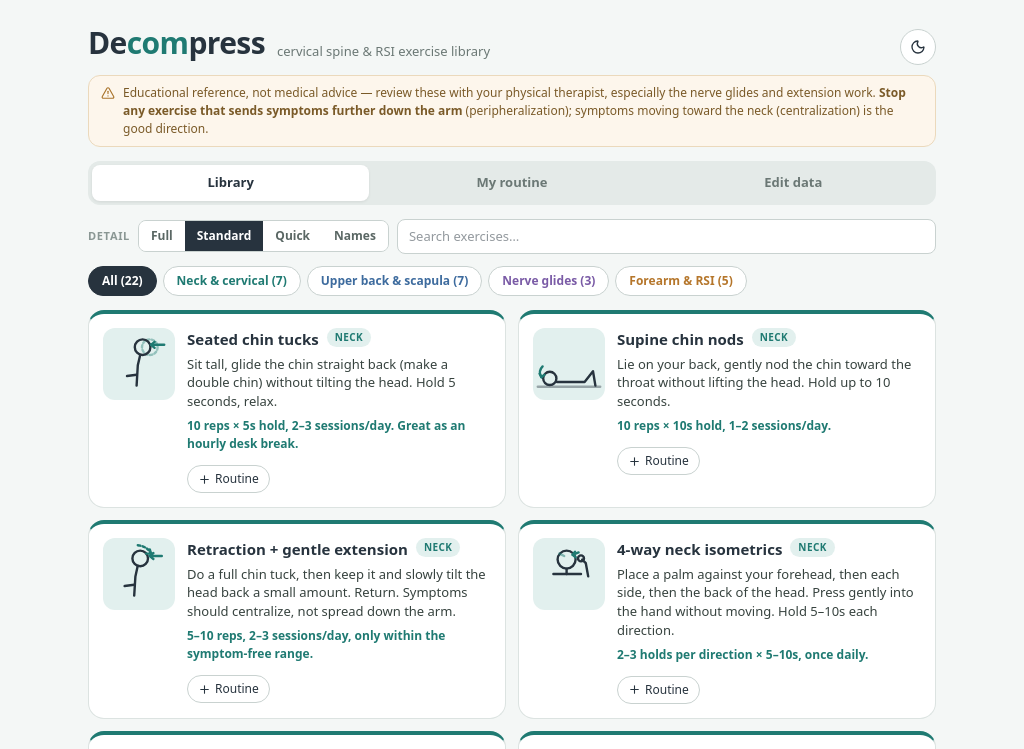
Test: DecompressApp › adds an exercise to the routine
Click the button "Routine" below "Seated chin tucks": (228, 479) [187,465,270,493]
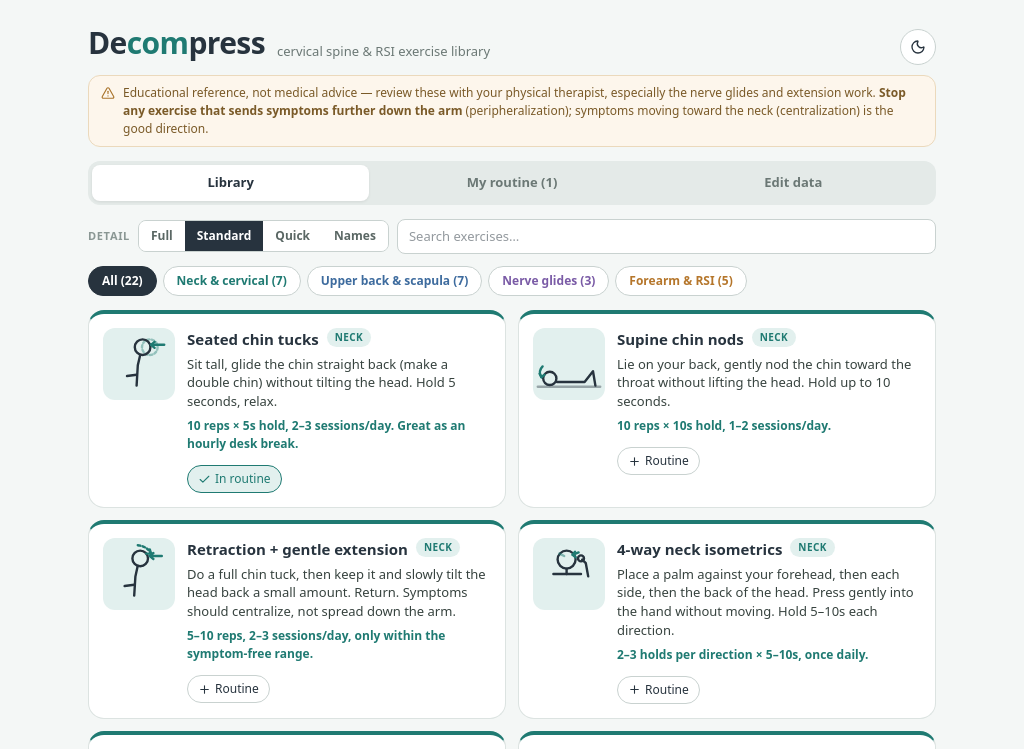
Result: the button "My routine (1)" is shown at [373,165,651,200]
